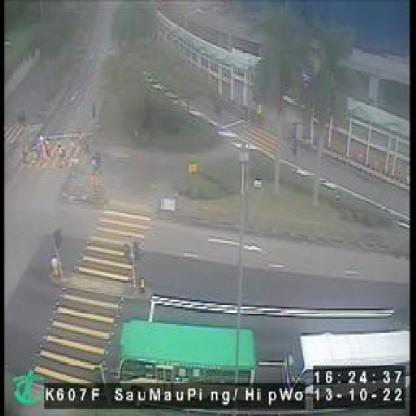Bus: (284, 330, 411, 394)
Minibus: (116, 320, 256, 389)
